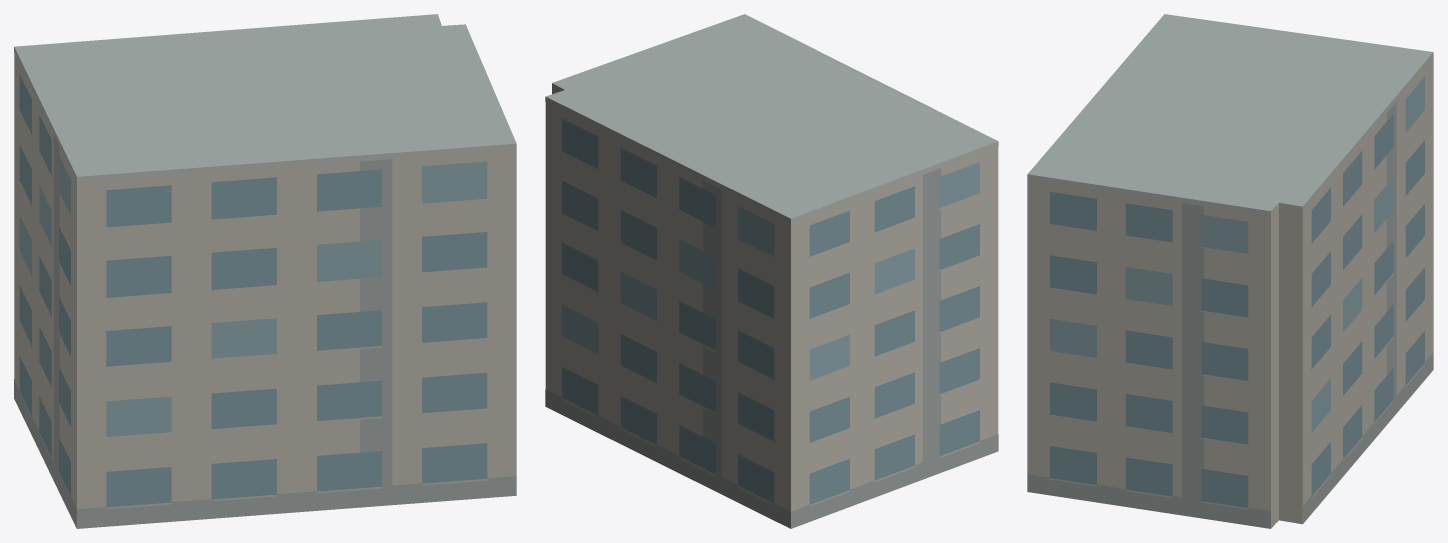
Rendered from survey-upis-32890151.glb.
3 renders of one model, left to right at view 1: azimuth 30°, elevation 25°; view 2: azimuth 150°, elevation 25°; view 3: azimuth 270°, elevation 25°, orthographic. The views are drawn at different scales.
Parts seen in each view (by area): view 1: survey-upis-32890151.tmp; view 2: survey-upis-32890151.tmp; view 3: survey-upis-32890151.tmp.
Part boxes in pixels (x1,y1,x2,y2): survey-upis-32890151.tmp: (14, 14, 516, 528); survey-upis-32890151.tmp: (545, 14, 998, 528); survey-upis-32890151.tmp: (1027, 14, 1433, 528).
Size of the model in its own units: 18.91 by 14.2 by 16.46.
